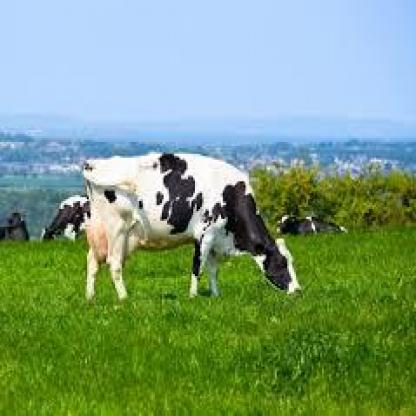cow: (81, 151, 302, 299), (40, 192, 92, 244), (277, 211, 348, 235), (0, 210, 30, 243)
